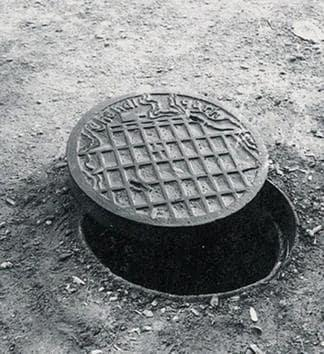open manhole-not overflowing-: (82, 159, 302, 302)
